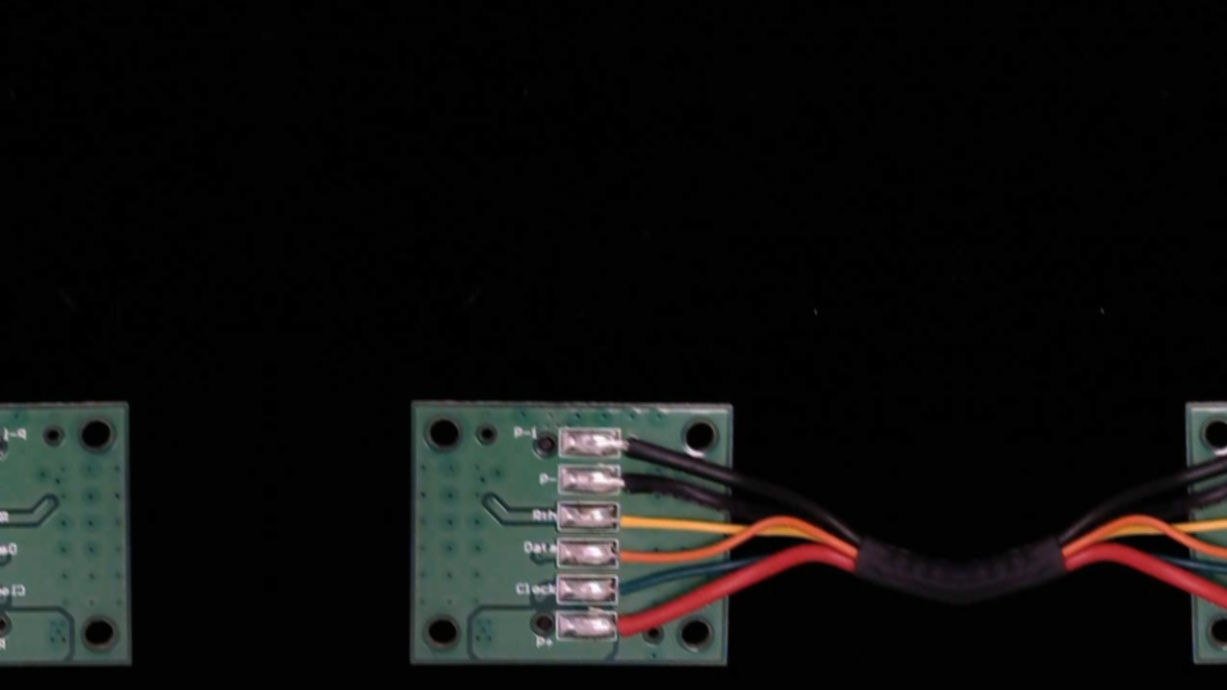Black: (600, 465, 671, 497)
Black1: (598, 425, 663, 457)
Green: (598, 573, 657, 604)
Orange: (597, 538, 656, 571)
Red: (600, 609, 660, 642)
Yellow: (599, 500, 670, 533)
